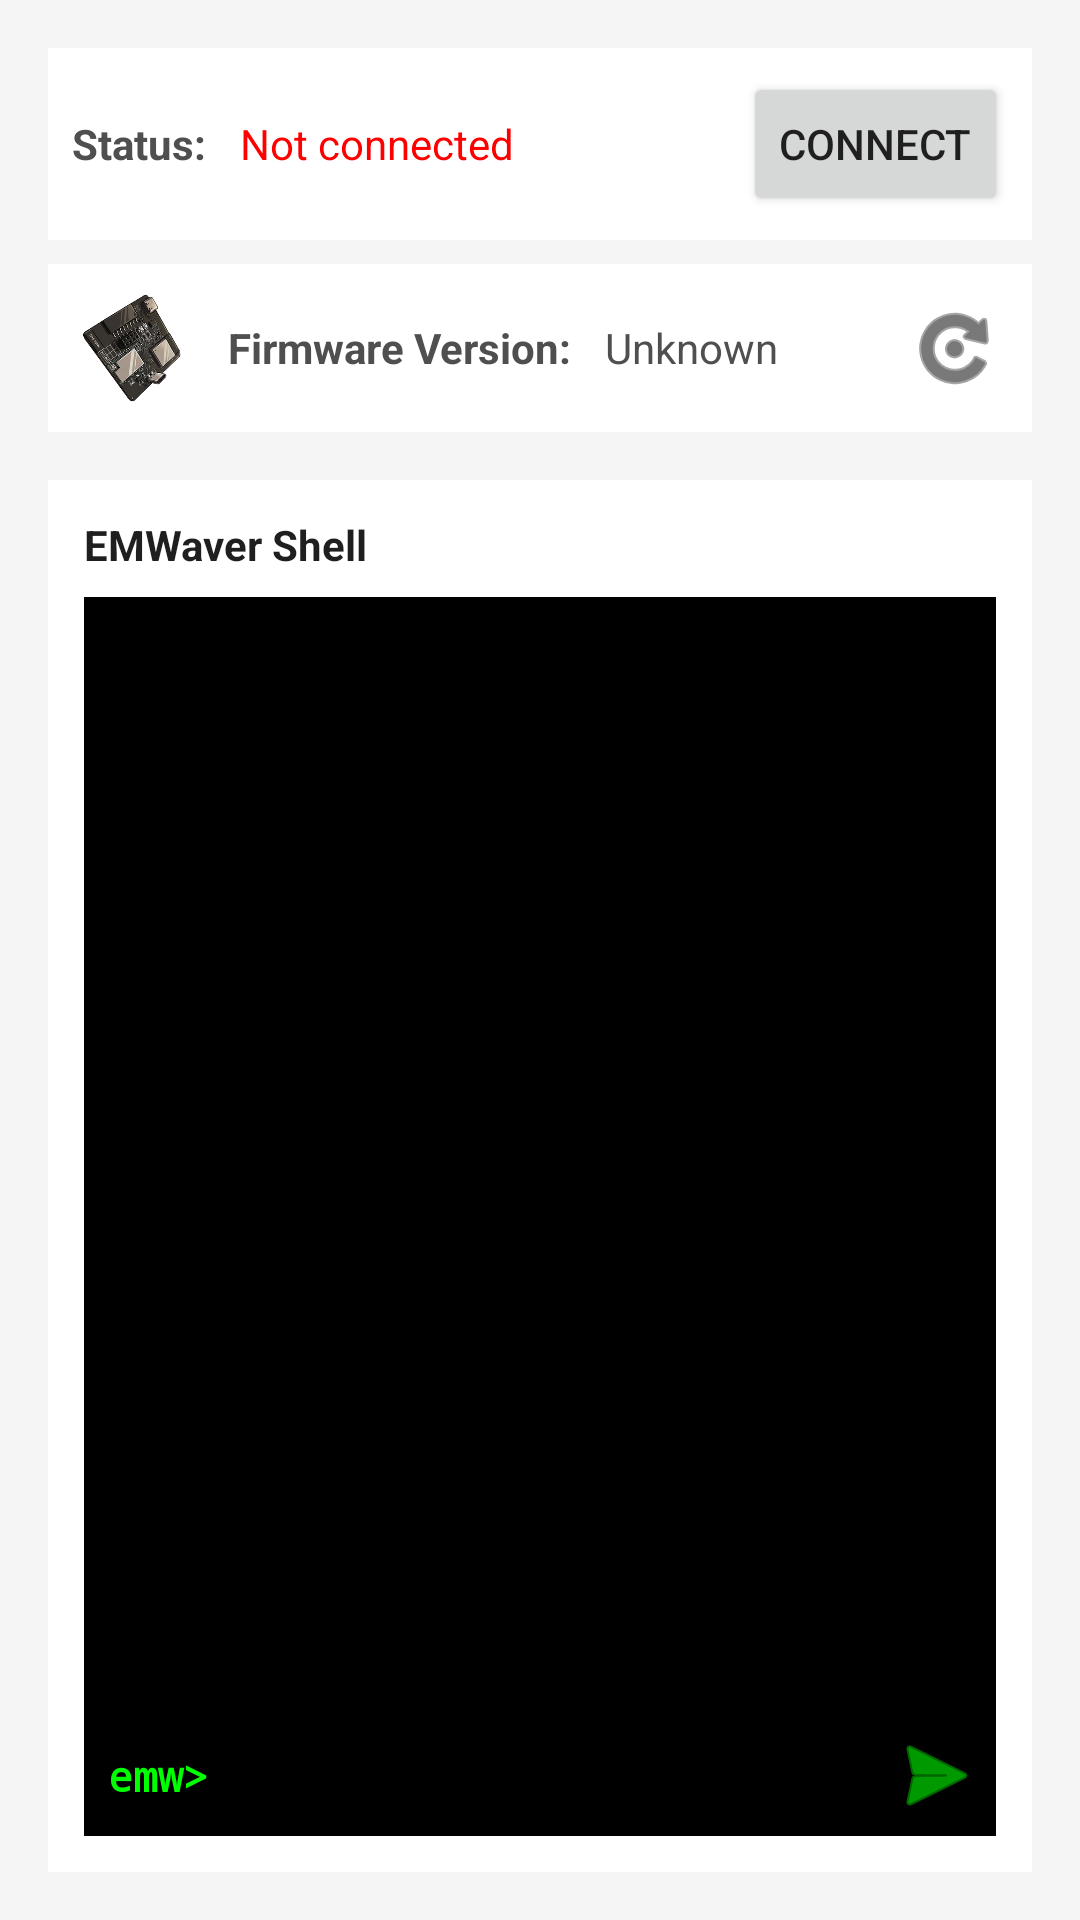

Screen size 1080x1920. Icon name, then its box in pixels as [x1,y1,x2,y2]:
Check firmware version: [919,313,989,384]
Device icon: [83,295,181,402]
Send Command: [906,1745,968,1806]
